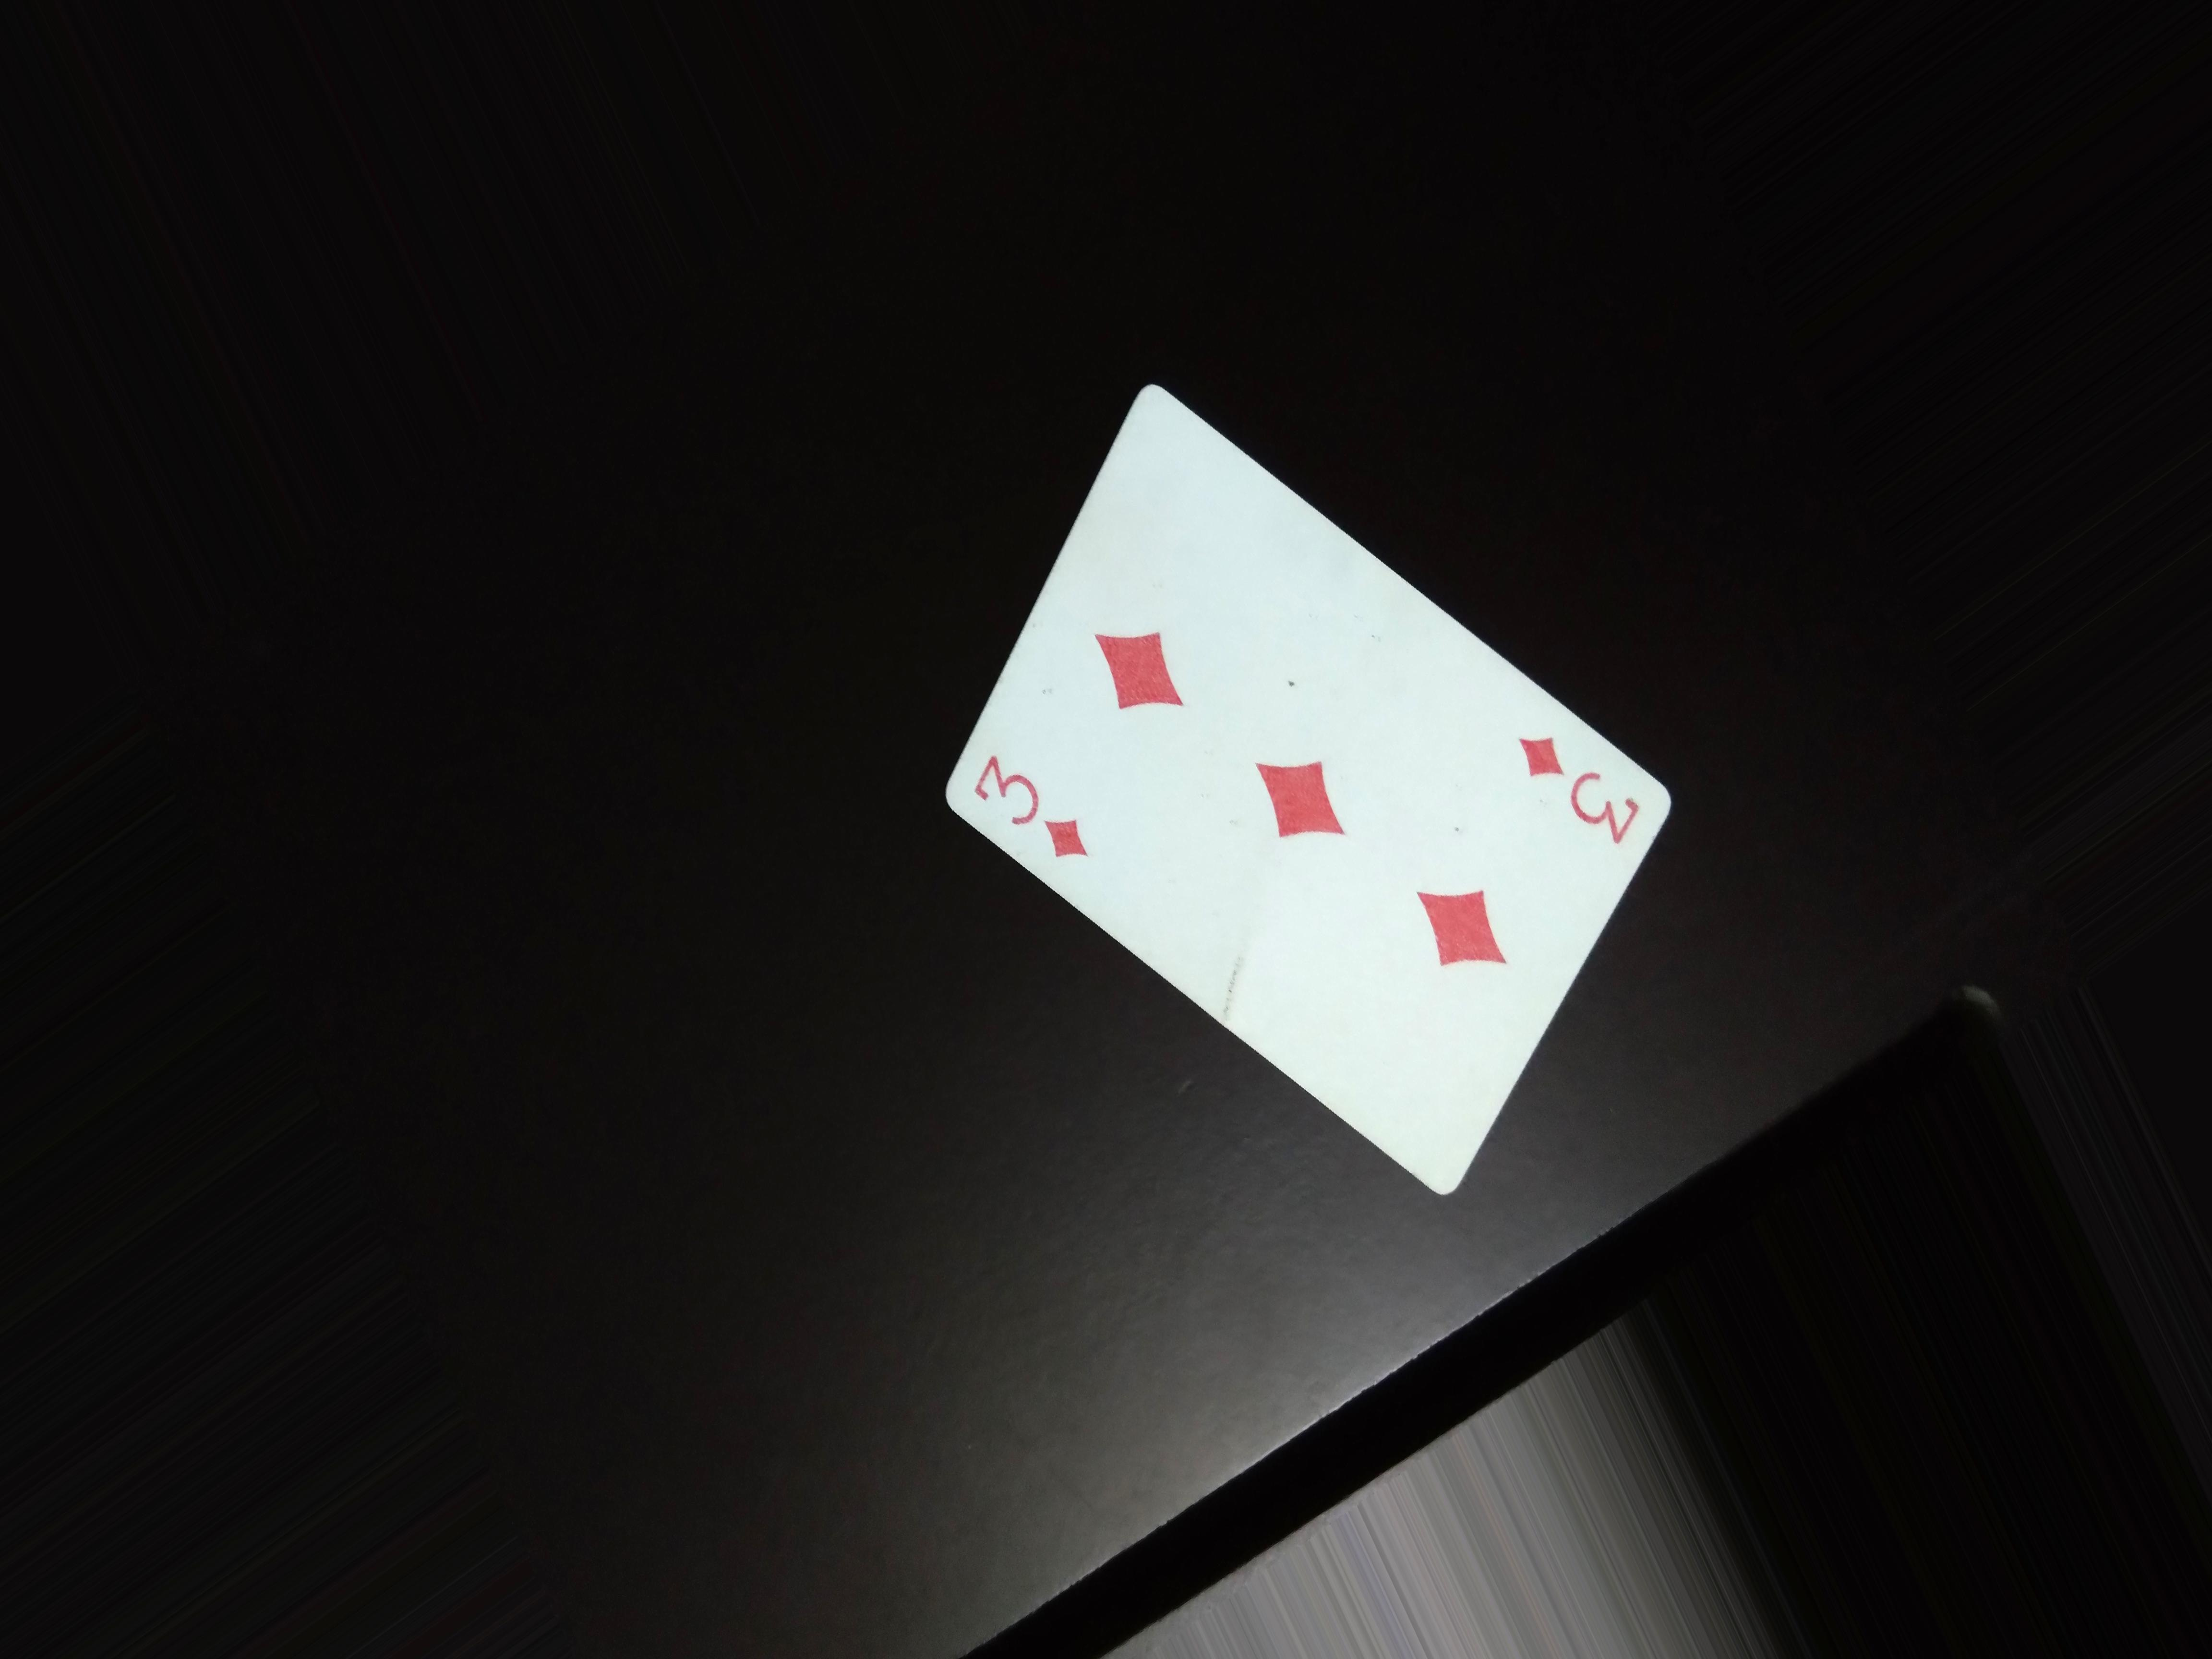3D: (1512, 732, 1644, 861)
